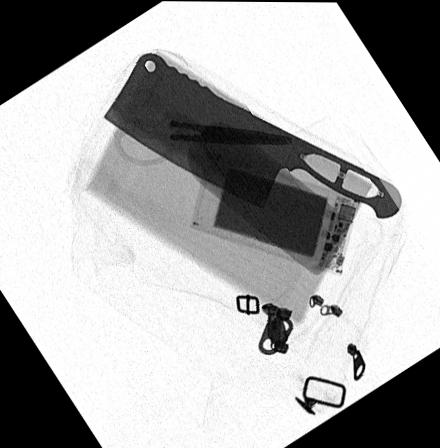Knife: (101, 52, 401, 220)
Powerbank: (187, 155, 360, 274)
Scissors: (107, 85, 291, 167)
